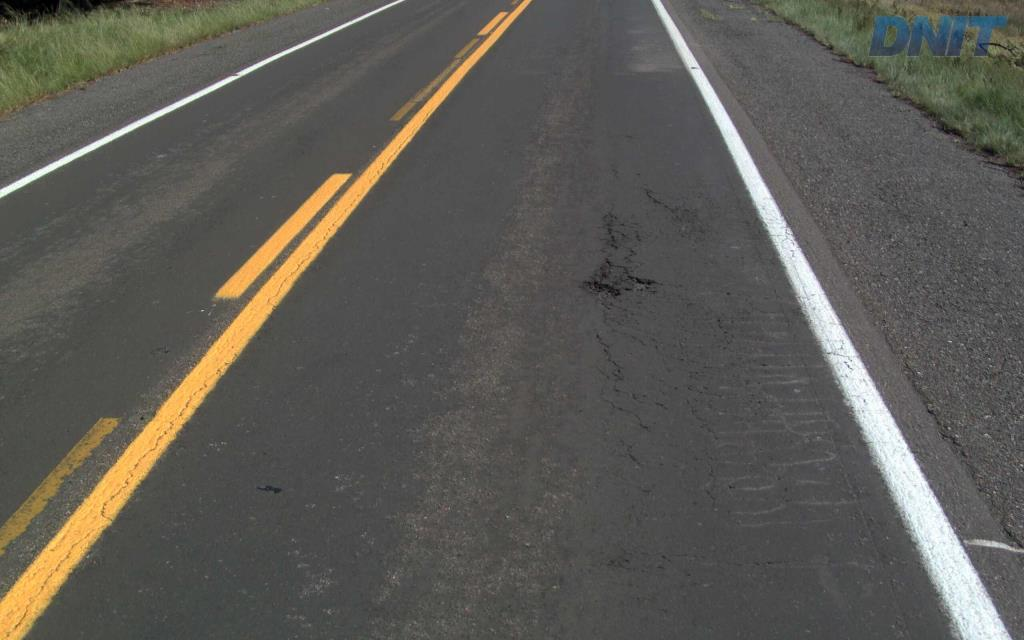crack: (577, 253, 663, 310), (599, 211, 632, 253)
